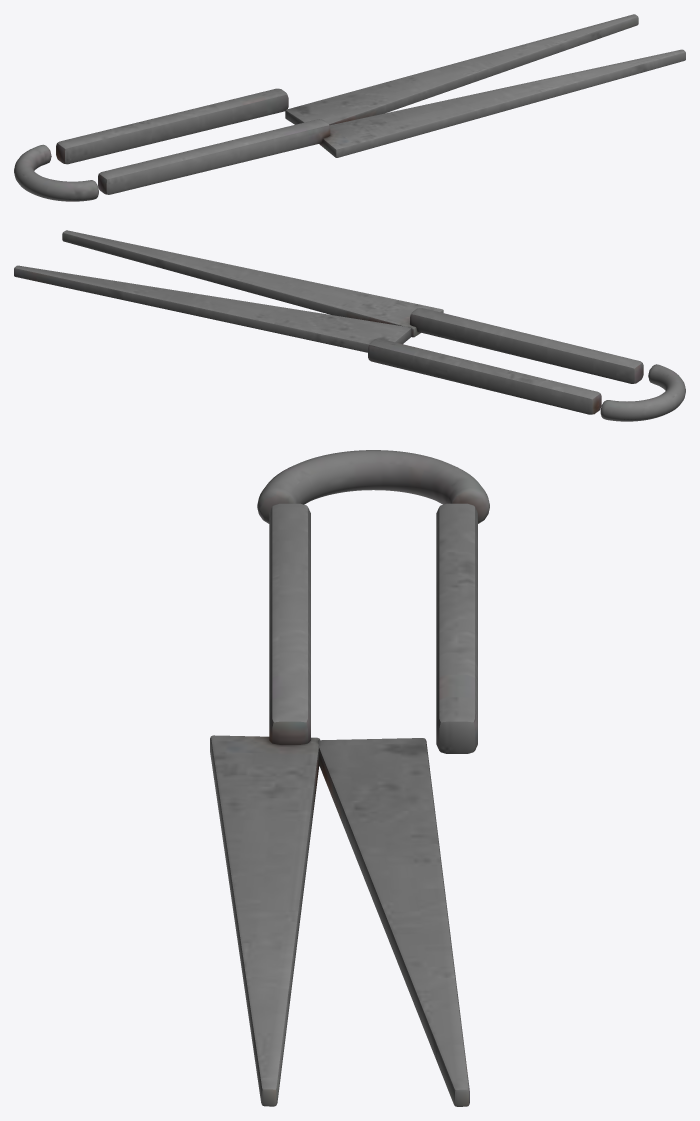
File: iron_shears.glb
3 views of the same model, one above another, from view 1: azimuth 30°, elevation 25°; view 2: azimuth 150°, elevation 25°; view 3: azimuth 270°, elevation 25° (orthographic). The views are drawn at different scales.
Visible parts, largest first — view 1: iron_shears; view 2: iron_shears; view 3: iron_shears.
Part boxes in pixels (x1=…): iron_shears: x1=14, y1=14, x2=685, y2=201; iron_shears: x1=14, y1=230, x2=685, y2=421; iron_shears: x1=210, y1=450, x2=489, y2=1106.
Bounding box in the file's own units: 0.2114 × 0.0069 × 0.0402.
1 material, 1 textured.
